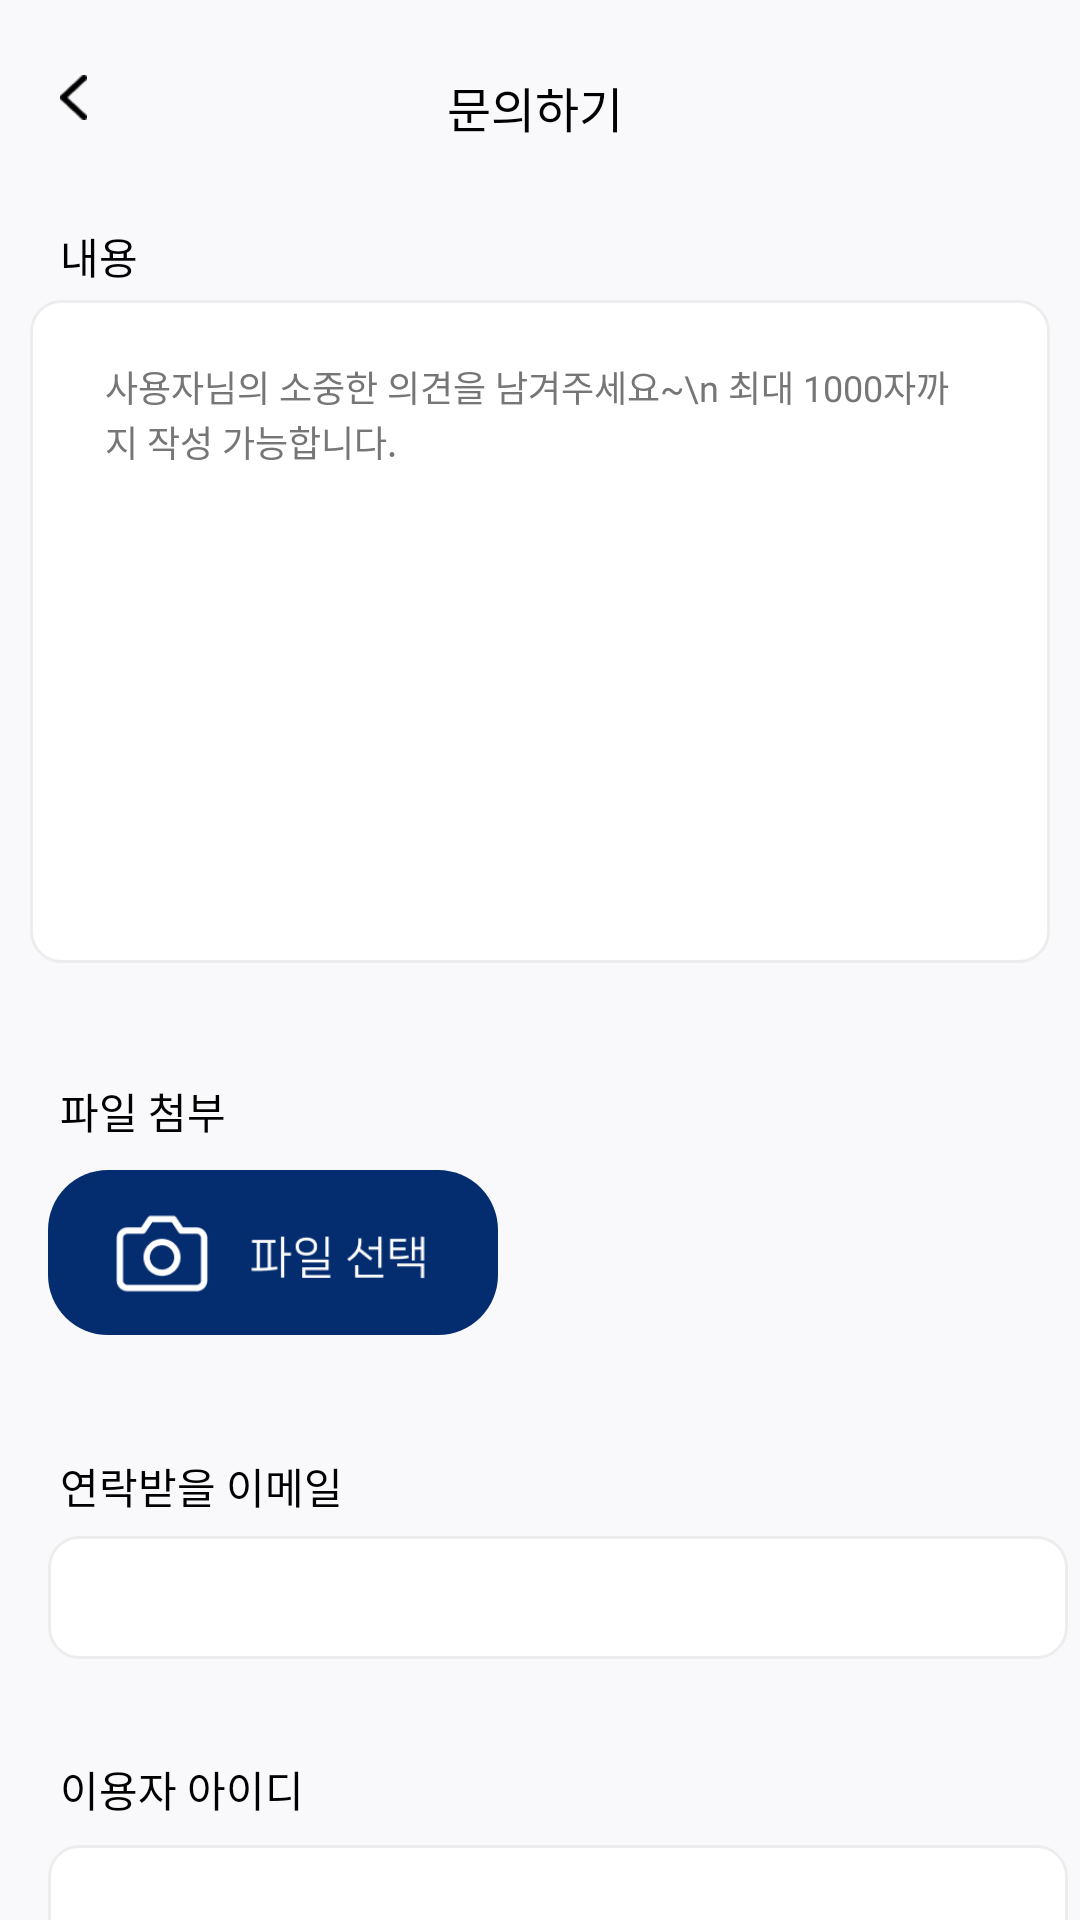

Icons on this 1080×1920 Android screen, each with the point to tap as (x=x, y=y):
back: (x=73, y=97)
